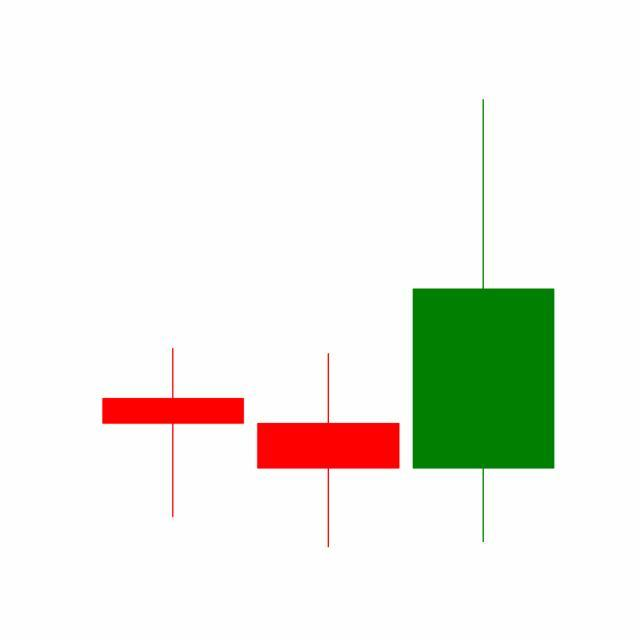Spinning Top: (250, 351, 407, 550)
